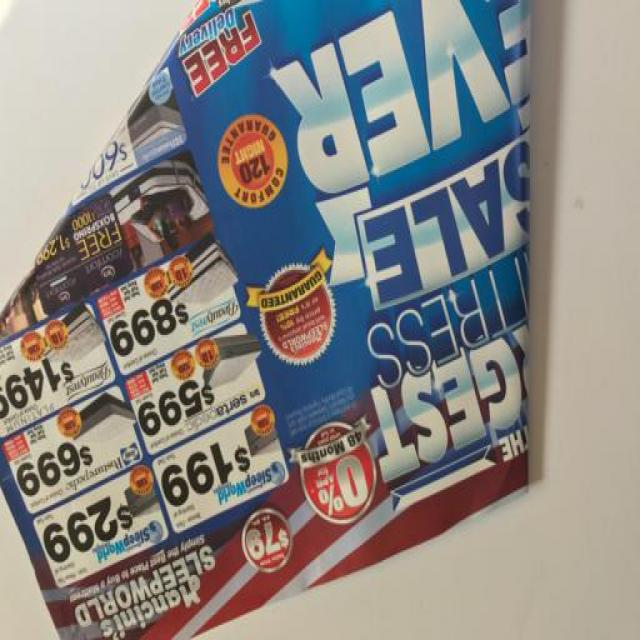paper: (5, 6, 544, 640)
